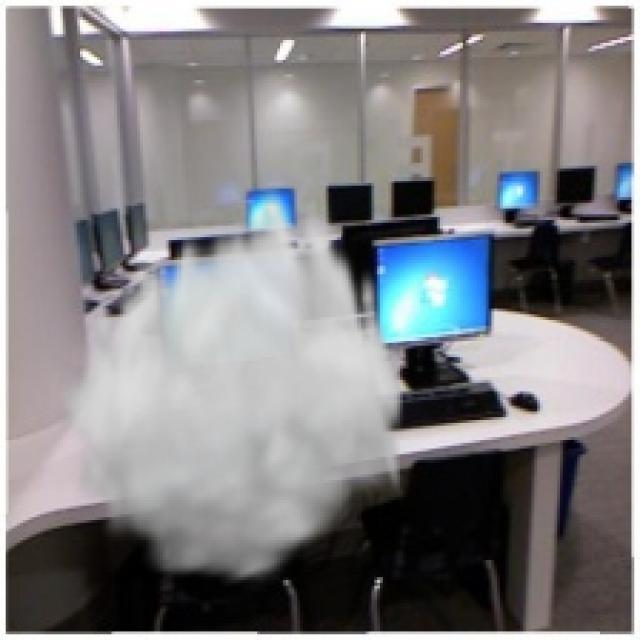Smoke: (54, 174, 409, 592)
